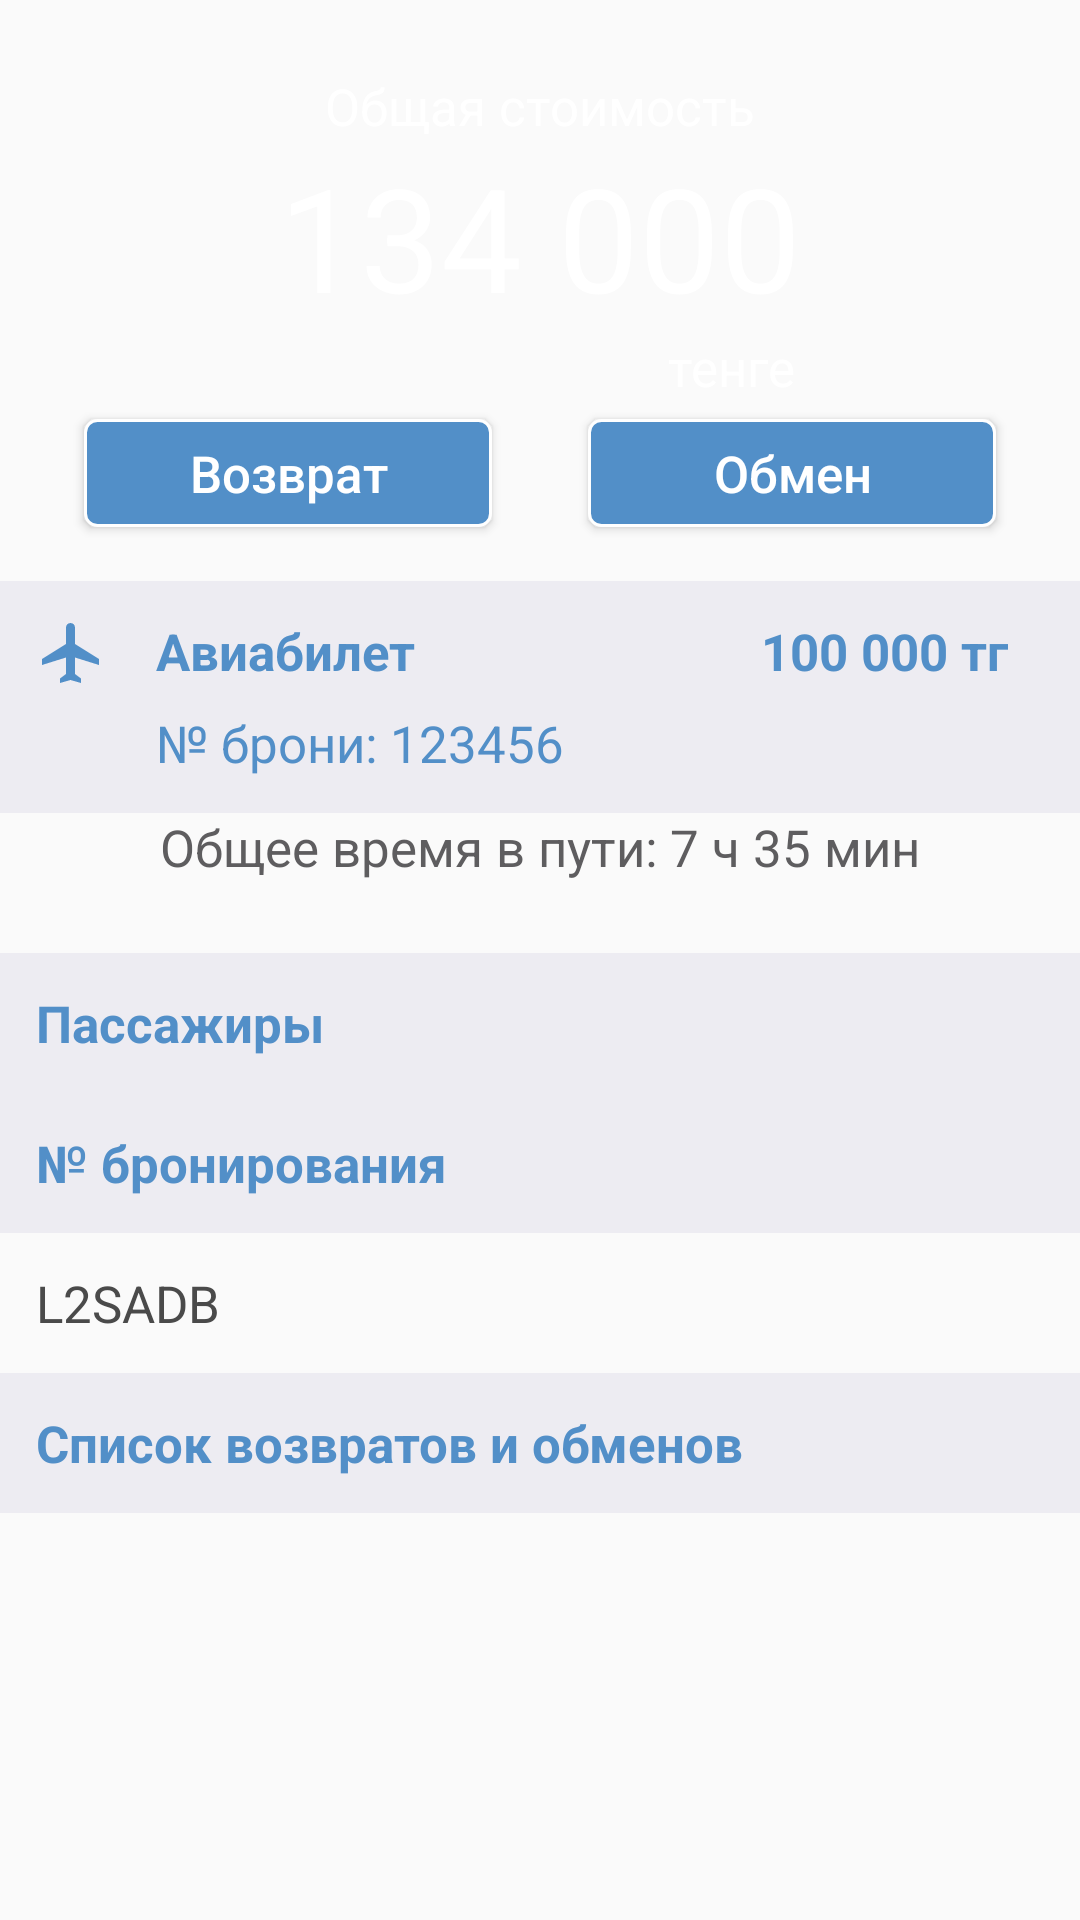

Icons on this 1080 × 1920 Android screen, each with its box as Rect(x1, y1, x2, y2):
flight: Rect(42, 623, 99, 683)
